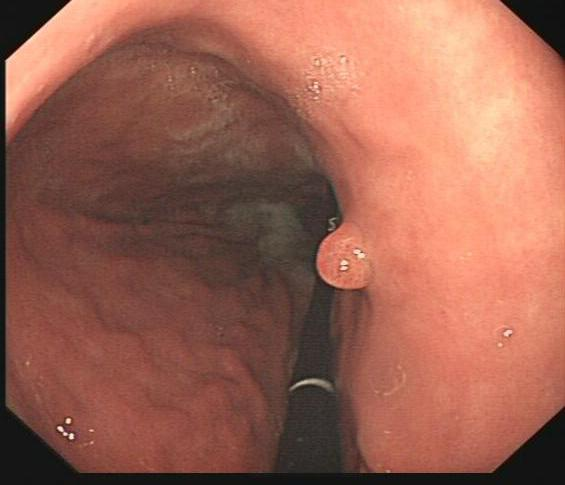Polyp: (312, 211, 385, 295)
